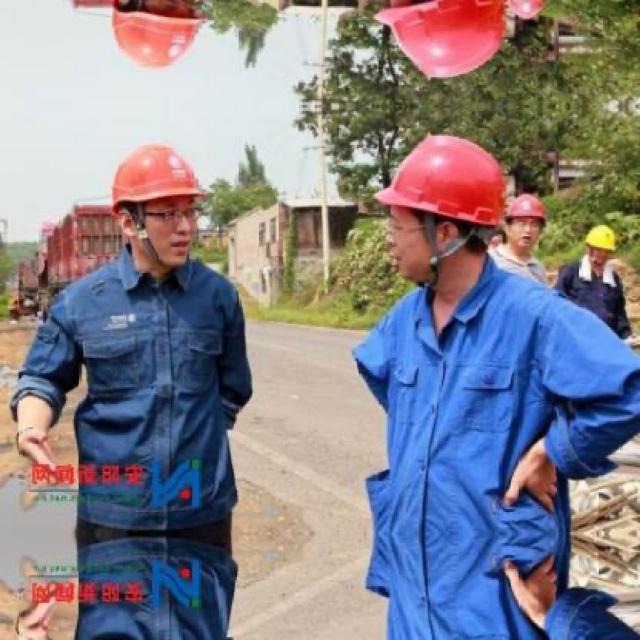2: (360, 136, 592, 532), (20, 142, 242, 530), (360, 535, 594, 639), (18, 536, 242, 638), (546, 225, 626, 355), (489, 194, 558, 290), (489, 0, 560, 20)
helmet: (371, 123, 506, 290), (103, 133, 217, 270), (369, 0, 506, 91), (101, 0, 217, 82), (500, 188, 551, 256), (583, 222, 617, 267), (500, 0, 552, 26)
